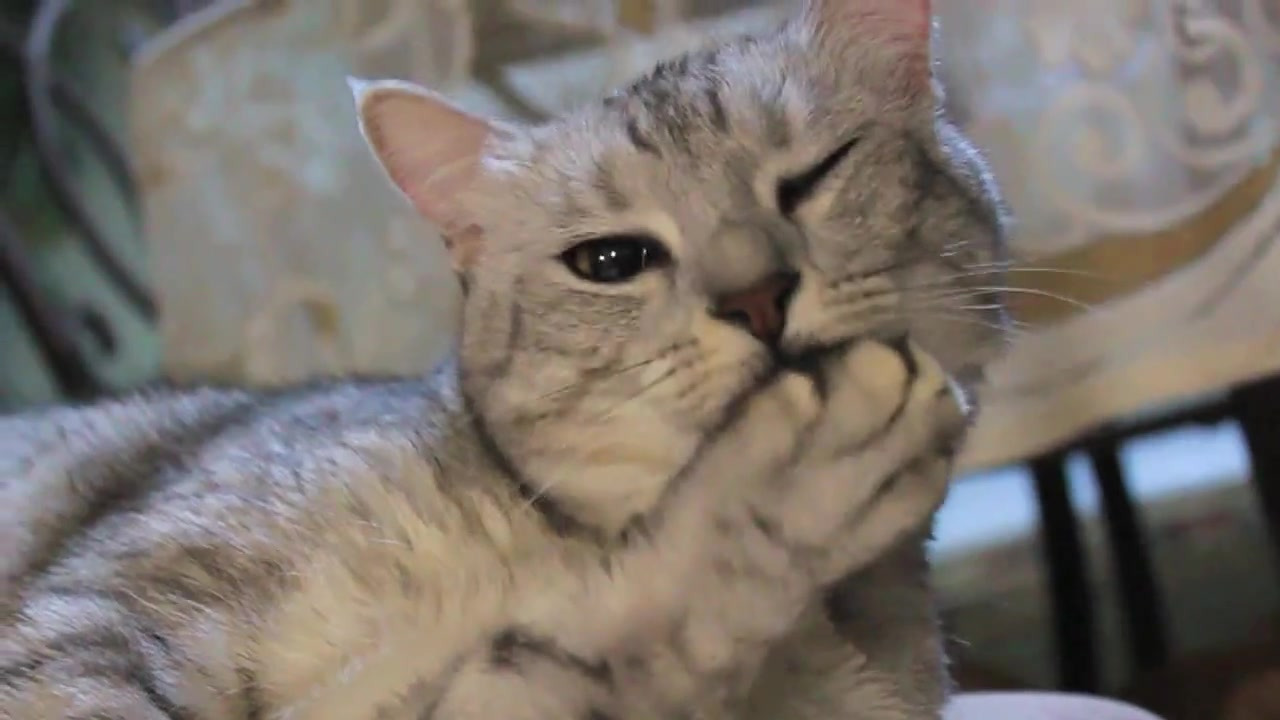cat: (1, 3, 1018, 720)
